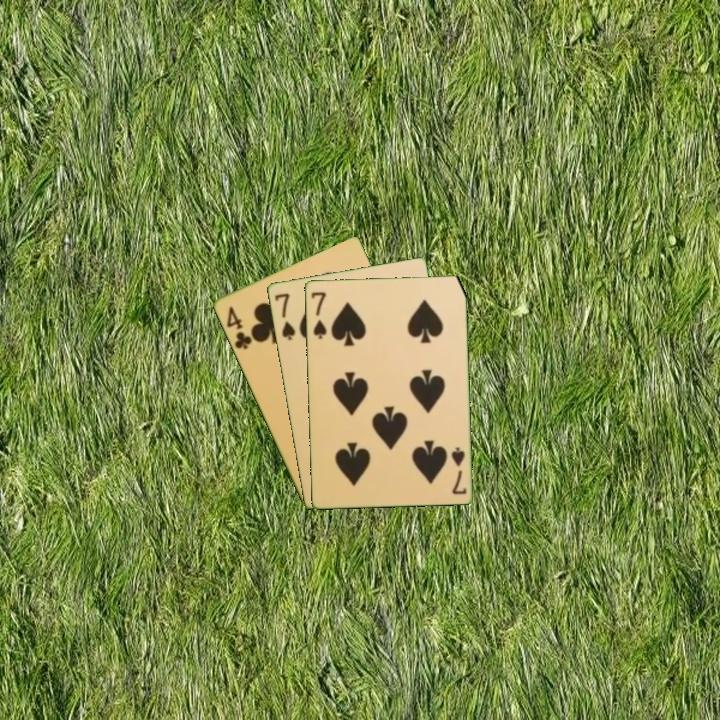4c: (223, 302, 254, 352)
7s: (271, 290, 298, 343), (447, 443, 469, 497), (307, 288, 329, 341)
